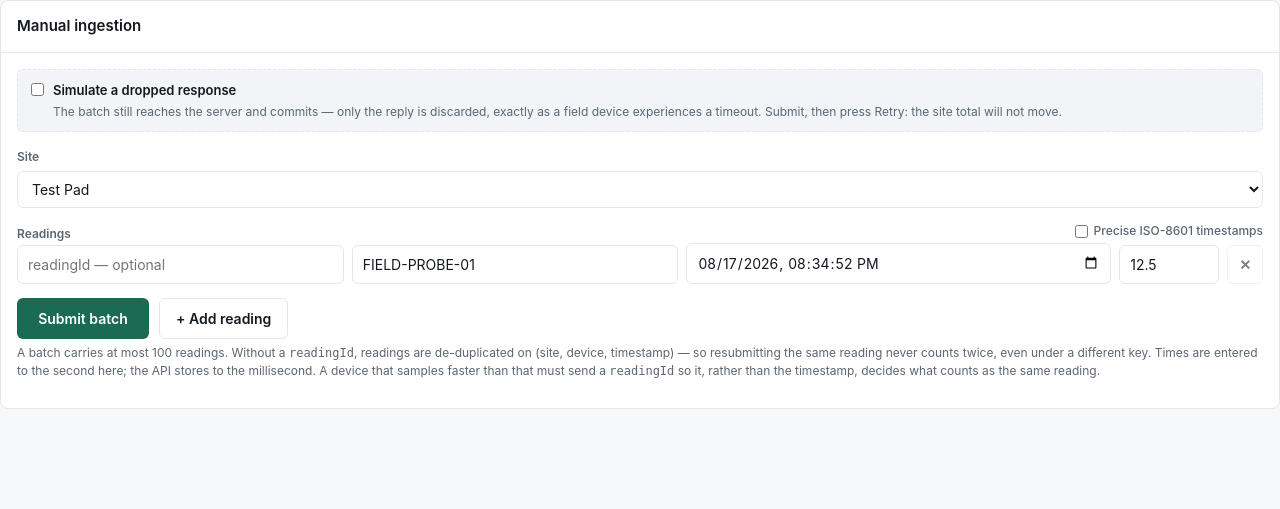
IngestForm › reports a replay as recorded once rather than as a new batch
Click the button "Submit batch".
click(83, 318)  # box top-left (17, 298), bottom-right (149, 339)
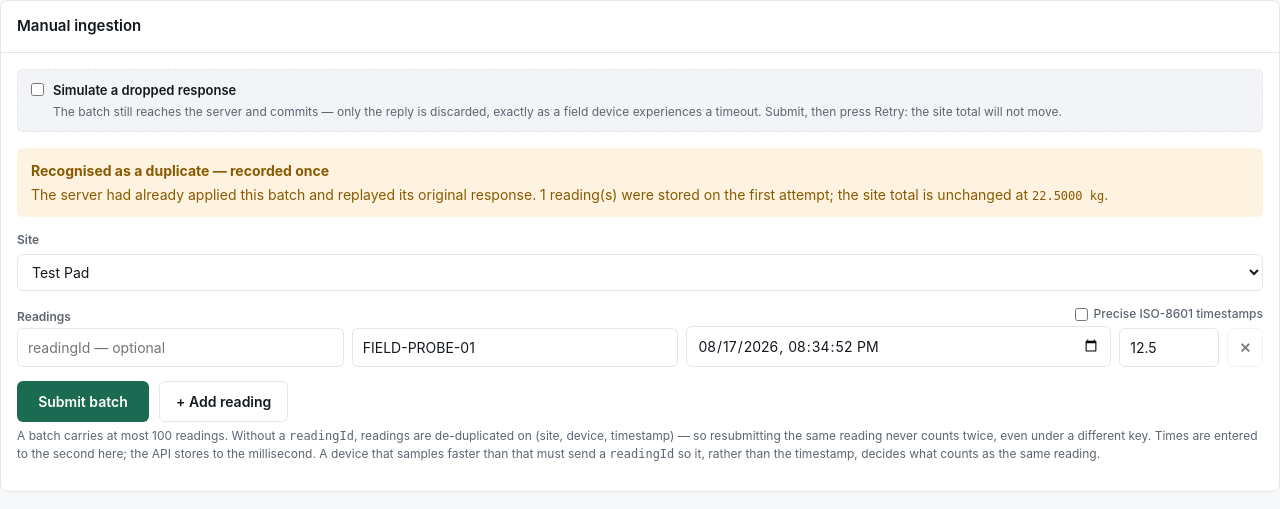
Expected: the text "Recognised as a duplicate — recorded once" is shown, top-left (31, 162), bottom-right (329, 179)
Expected: the text "unchanged" is shown, top-left (546, 186), bottom-right (1028, 203)
